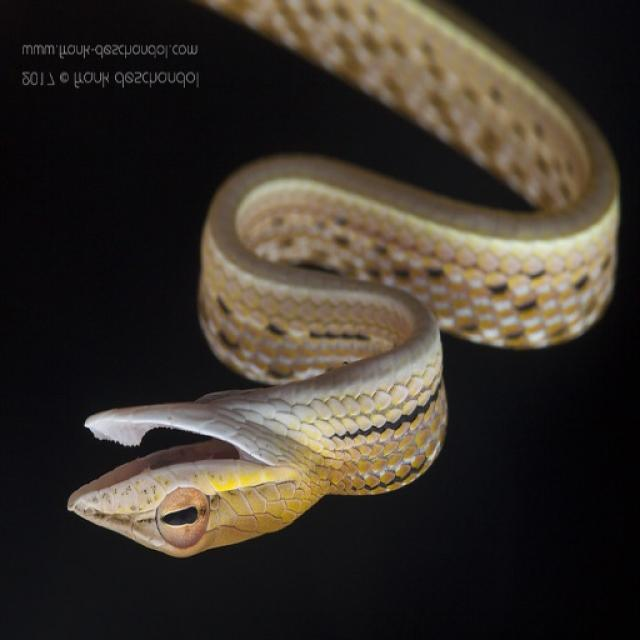snake: (60, 0, 640, 568)
